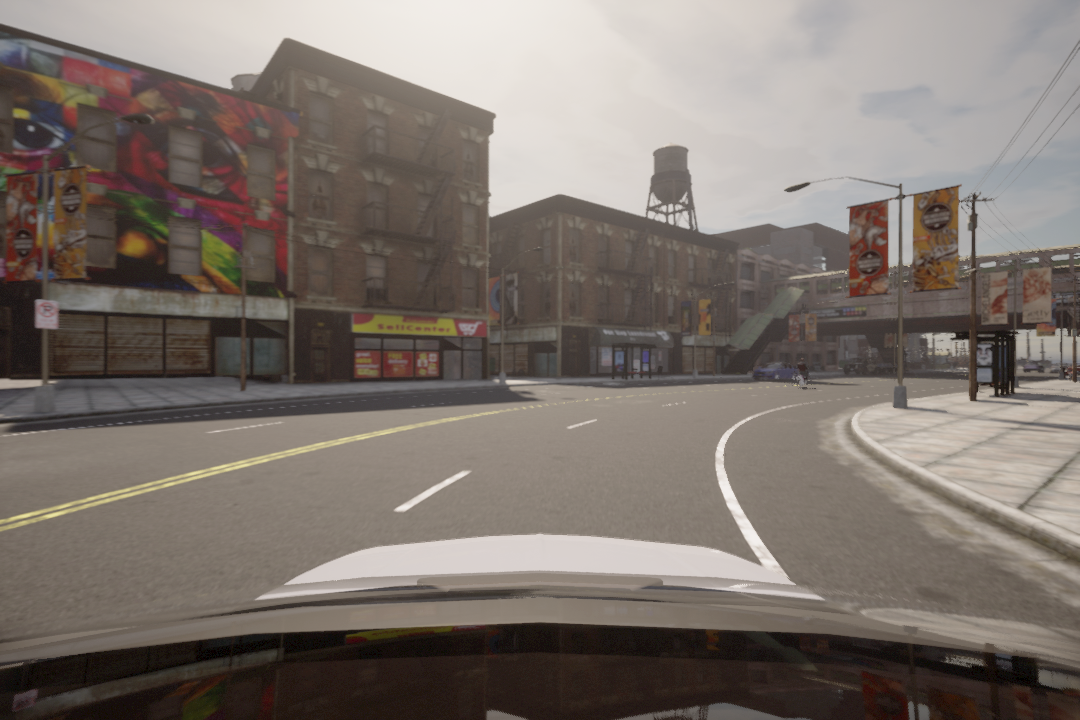TrafficSign_nstop: (33, 299, 56, 329)
